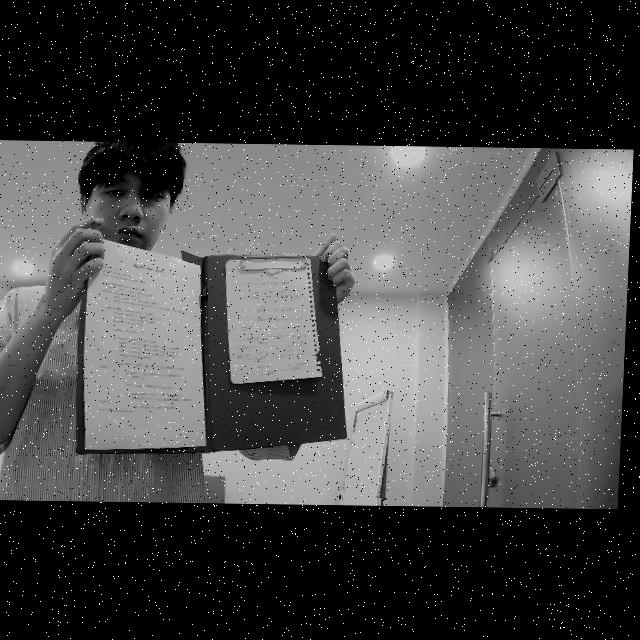document: (84, 236, 207, 450), (225, 258, 322, 385)
face: (82, 145, 184, 254)
